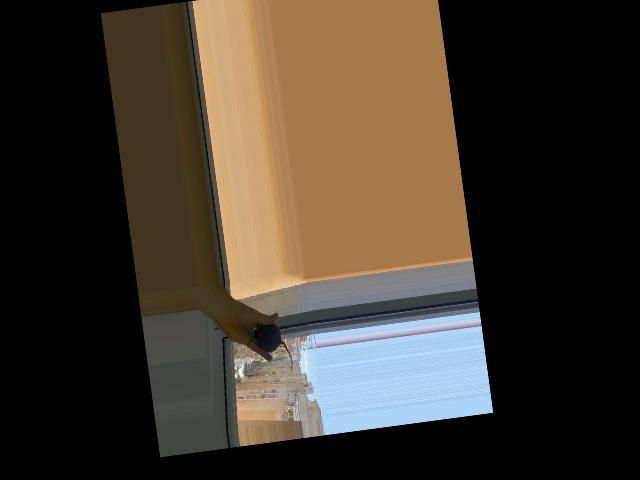beet: (253, 321, 293, 376)
